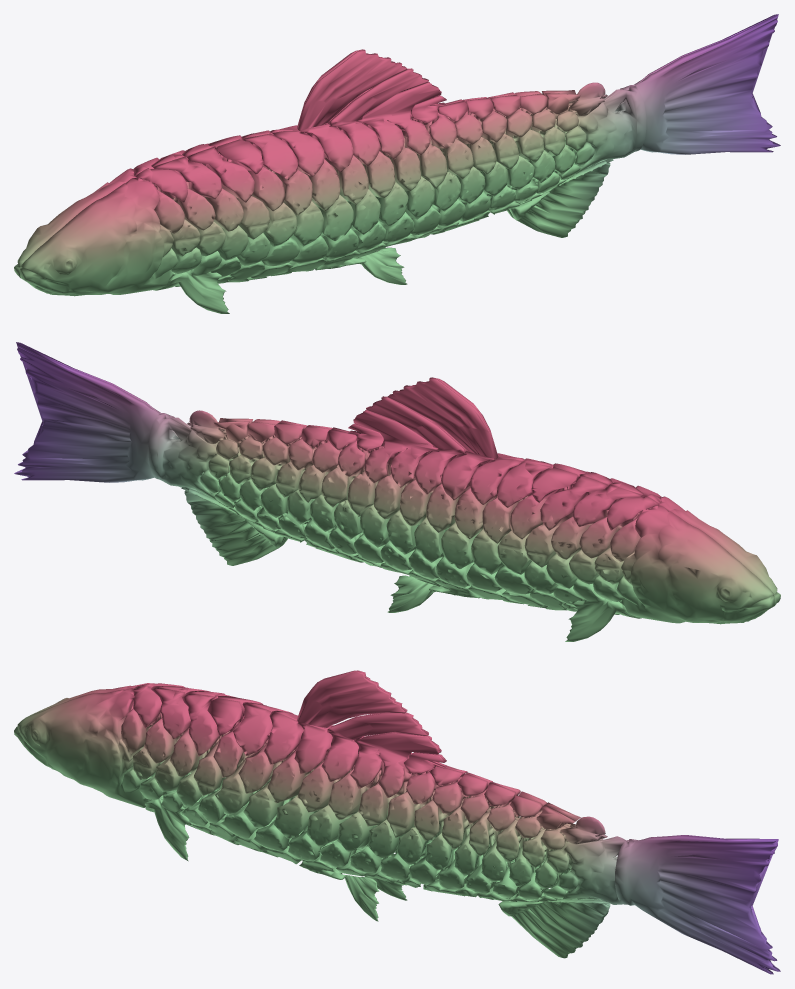
File: trout.glb
3 renders of one model, top to bottom at view 1: azimuth 30°, elevation 25°; view 2: azimuth 150°, elevation 25°; view 3: azimuth 330°, elevation 25°, orthographic.
Parts seen in each view (by area): view 1: Articulated Trout V10 — assembled; view 2: Articulated Trout V10 — assembled; view 3: Articulated Trout V10 — assembled.
Boxes of the visible parts, bbox=[...] form: Articulated Trout V10 — assembled: bbox=[14, 14, 780, 313]; Articulated Trout V10 — assembled: bbox=[14, 342, 780, 641]; Articulated Trout V10 — assembled: bbox=[14, 670, 780, 974].
Size of the model in its own units: 220 by 65.33 by 27.22.
